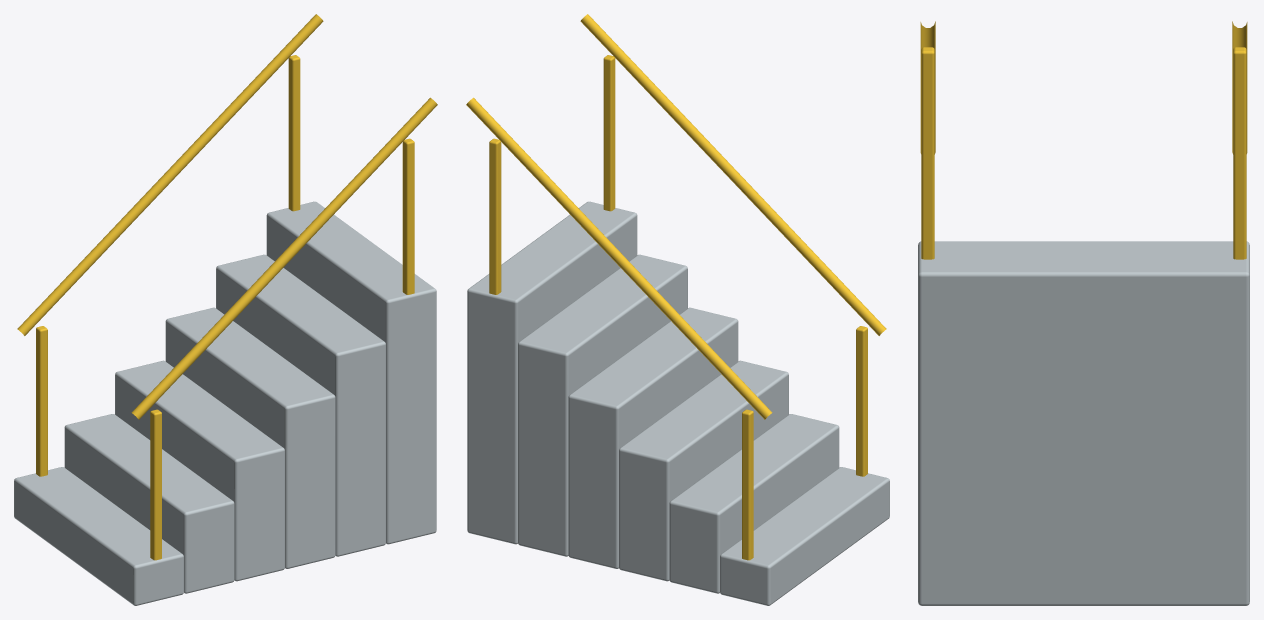
The model's file is recycling-centre-and-material-sorting-platform-access--28763b38__31145.glb.
The picture shows the model from 3 angles, left to right: view 1: azimuth 30°, elevation 25°; view 2: azimuth 150°, elevation 25°; view 3: azimuth 270°, elevation 25°; orthographic projection. The views are drawn at different scales.
Parts seen in each view (by area): view 1: platform-access-stair; view 2: platform-access-stair; view 3: platform-access-stair.
Boxes of the visible parts, bbox=[...] form: platform-access-stair: bbox=[14, 14, 437, 605]; platform-access-stair: bbox=[466, 14, 889, 605]; platform-access-stair: bbox=[918, 21, 1249, 605].
Size of the model in its own units: 1.45 by 1.97 by 1.
